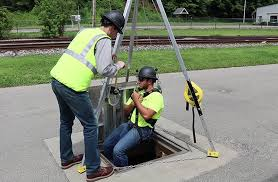Manhole-Open: (90, 123, 191, 165)
human: (50, 3, 126, 178), (106, 62, 164, 166)
